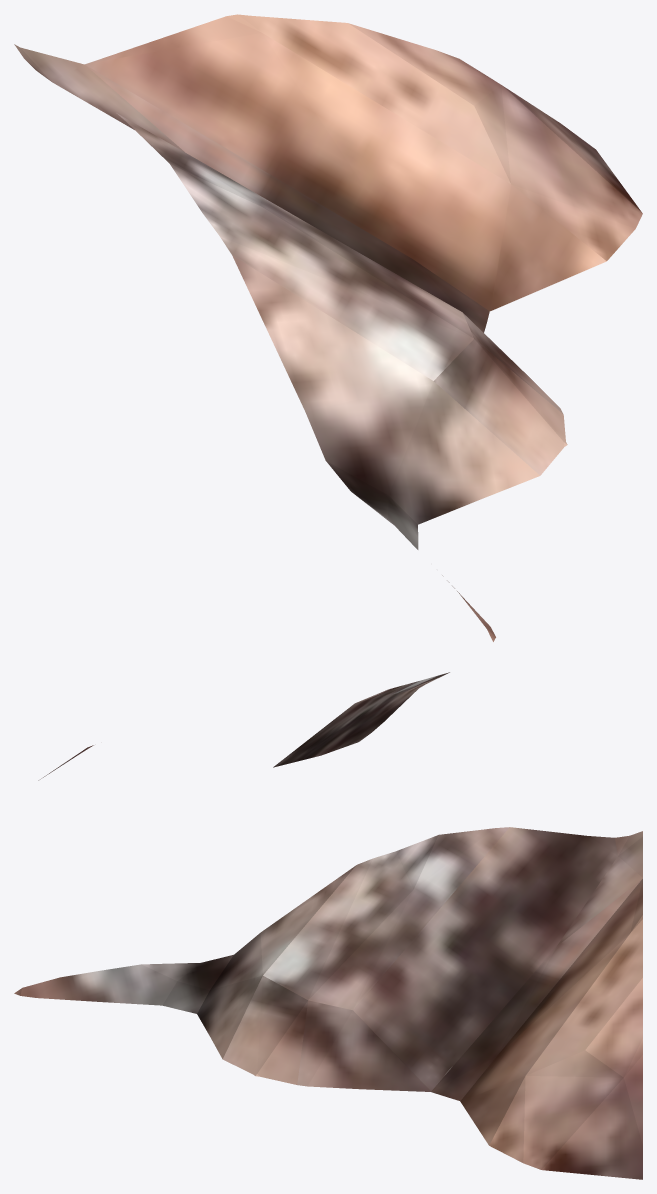
3 renders of one model, top to bottom at view 1: azimuth 30°, elevation 25°; view 2: azimuth 150°, elevation 25°; view 3: azimuth 270°, elevation 25°, orthographic. The views are drawn at different scales.
Bounding box in the file's own units: 0.2797 × 0.1164 × 0.399.
1 material, 1 textured.
